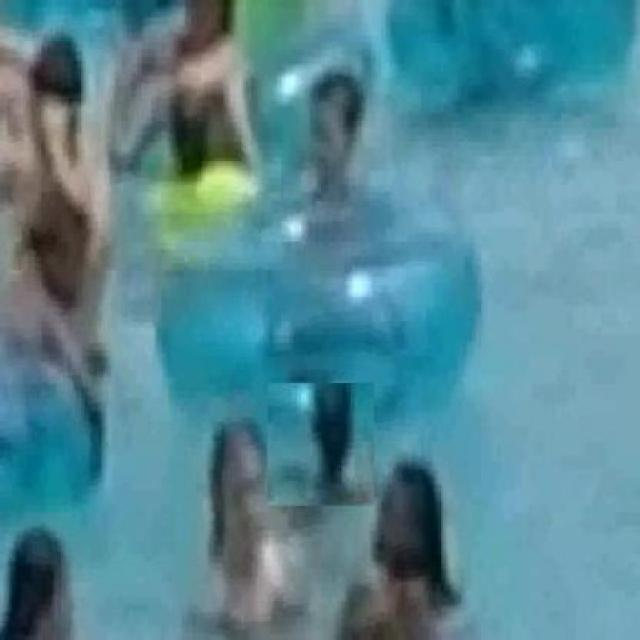drowning: (268, 382, 375, 507)
